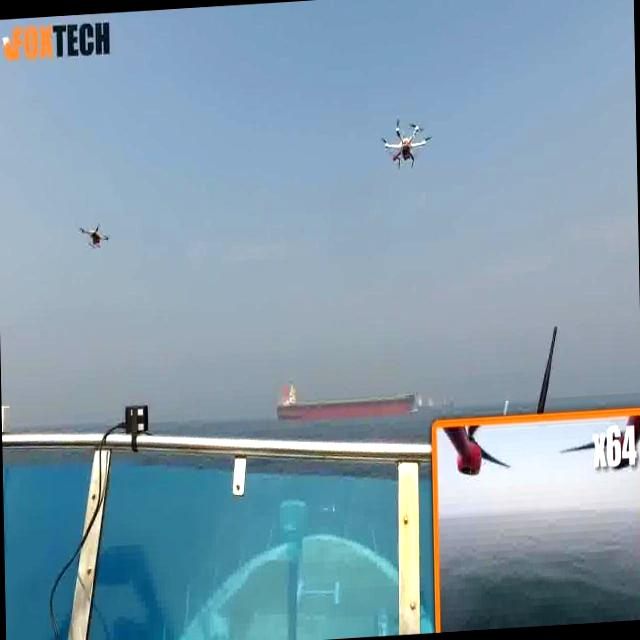drone: (371, 105, 435, 180), (70, 216, 114, 258)
